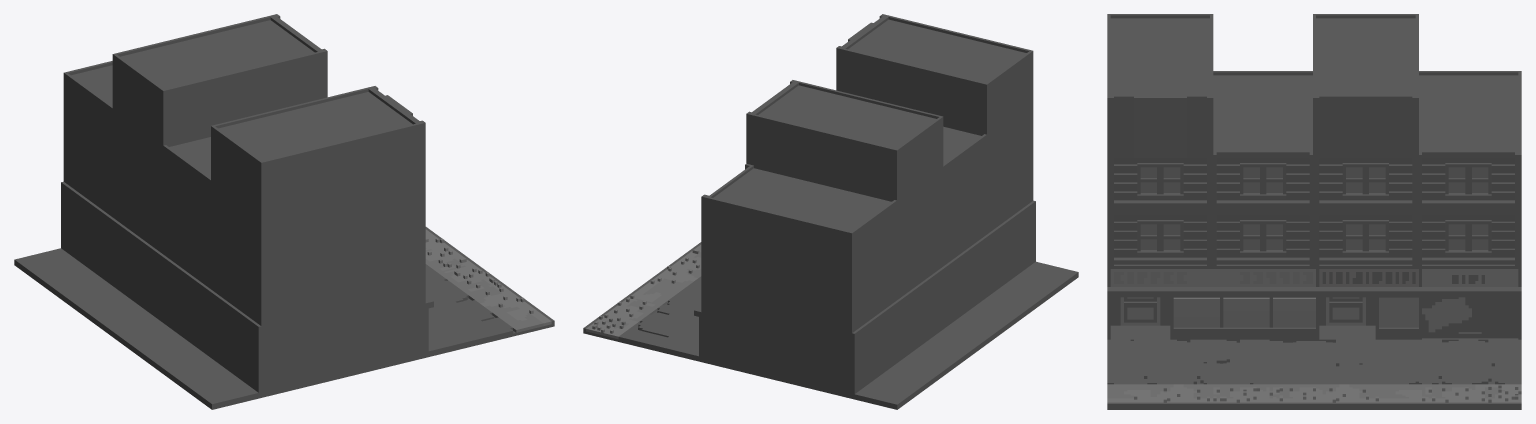
The model's file is kfarr_bases_valencia_store-1-11-12.obj.
3 renders of one model, left to right at view 1: azimuth 30°, elevation 25°; view 2: azimuth 150°, elevation 25°; view 3: azimuth 270°, elevation 25°, orthographic. The views are drawn at different scales.
Bounding box in the file's own units: 125 × 82 × 125.
